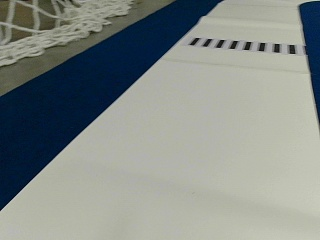crosswalk: (187, 36, 299, 55)
